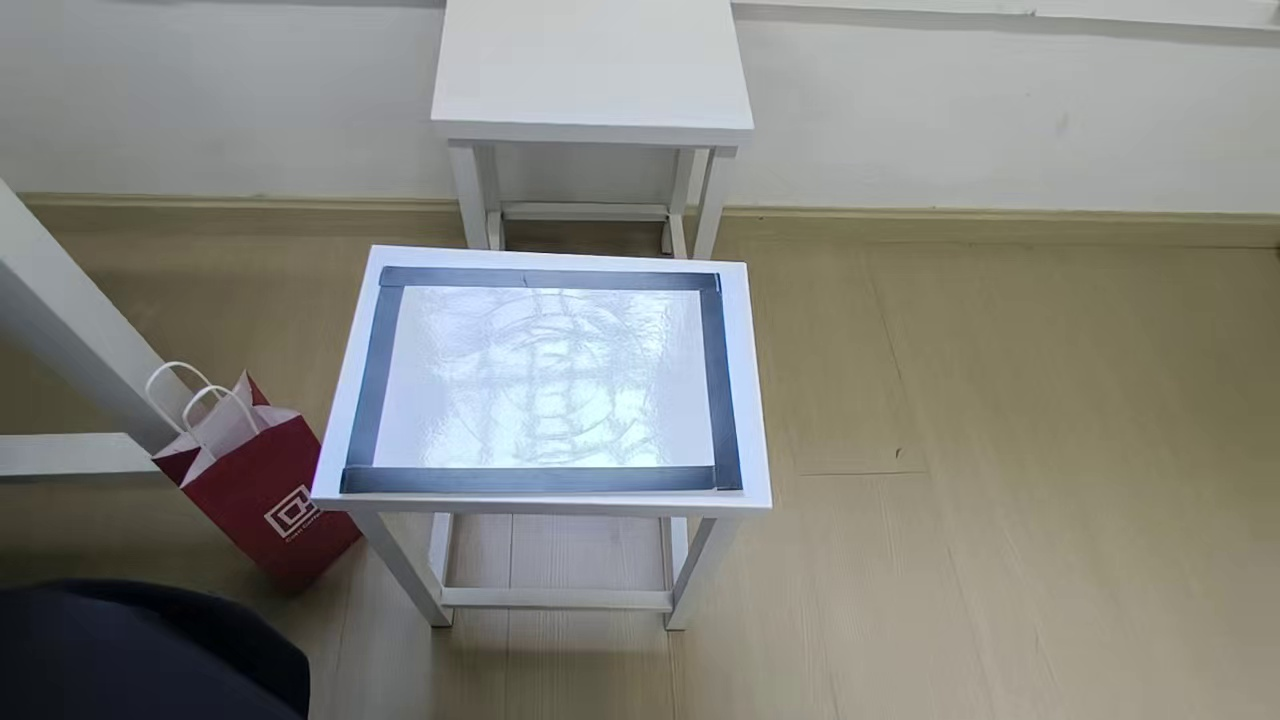board: (341, 268, 741, 493)
